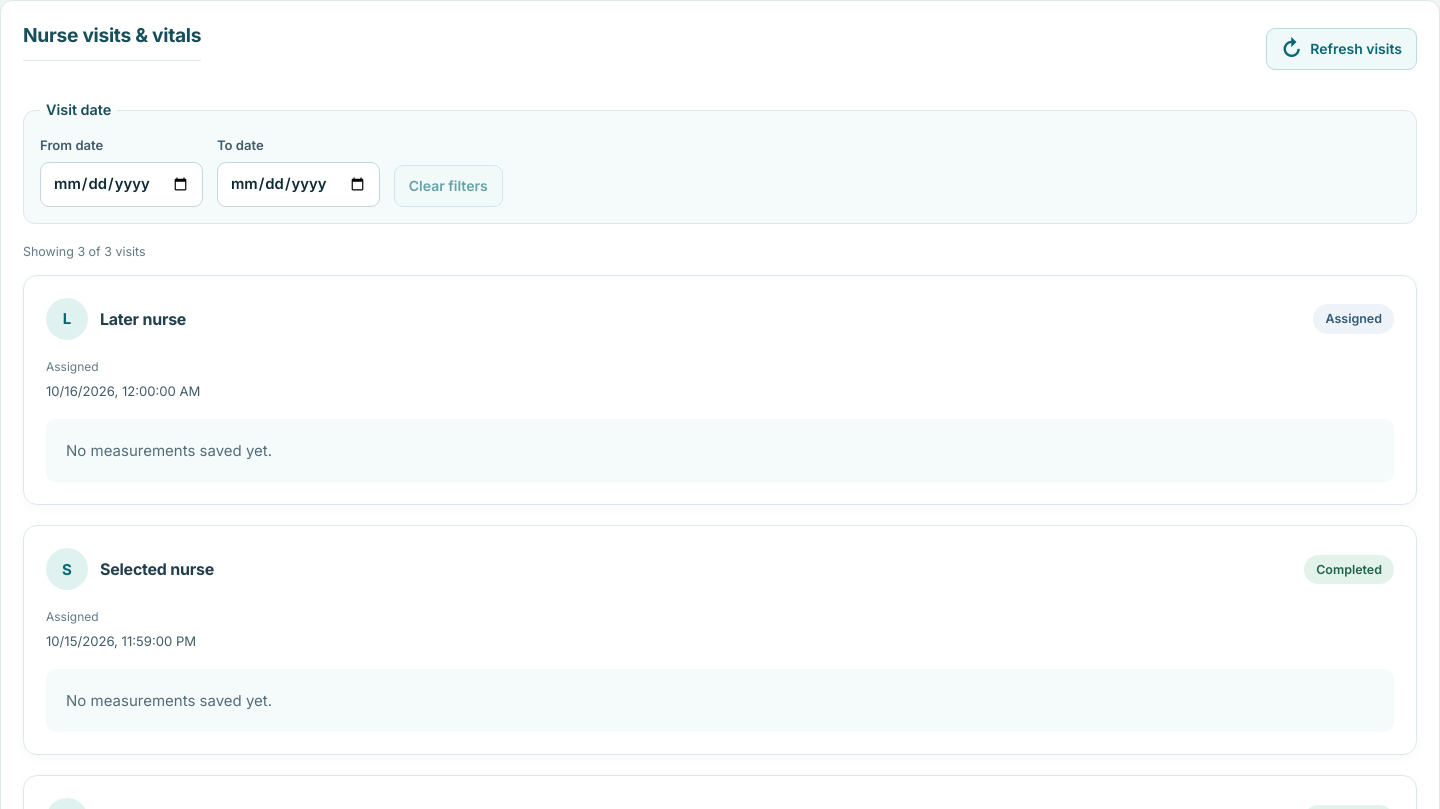
Test: filters inclusive local assignment dates, validates ranges and clears filters
Expected: the heading "Selected nurse" is shown, [100, 559, 214, 580]
Type "2026-10-15" into the date field labelled "From date" at (121, 184), box [40, 162, 203, 207]
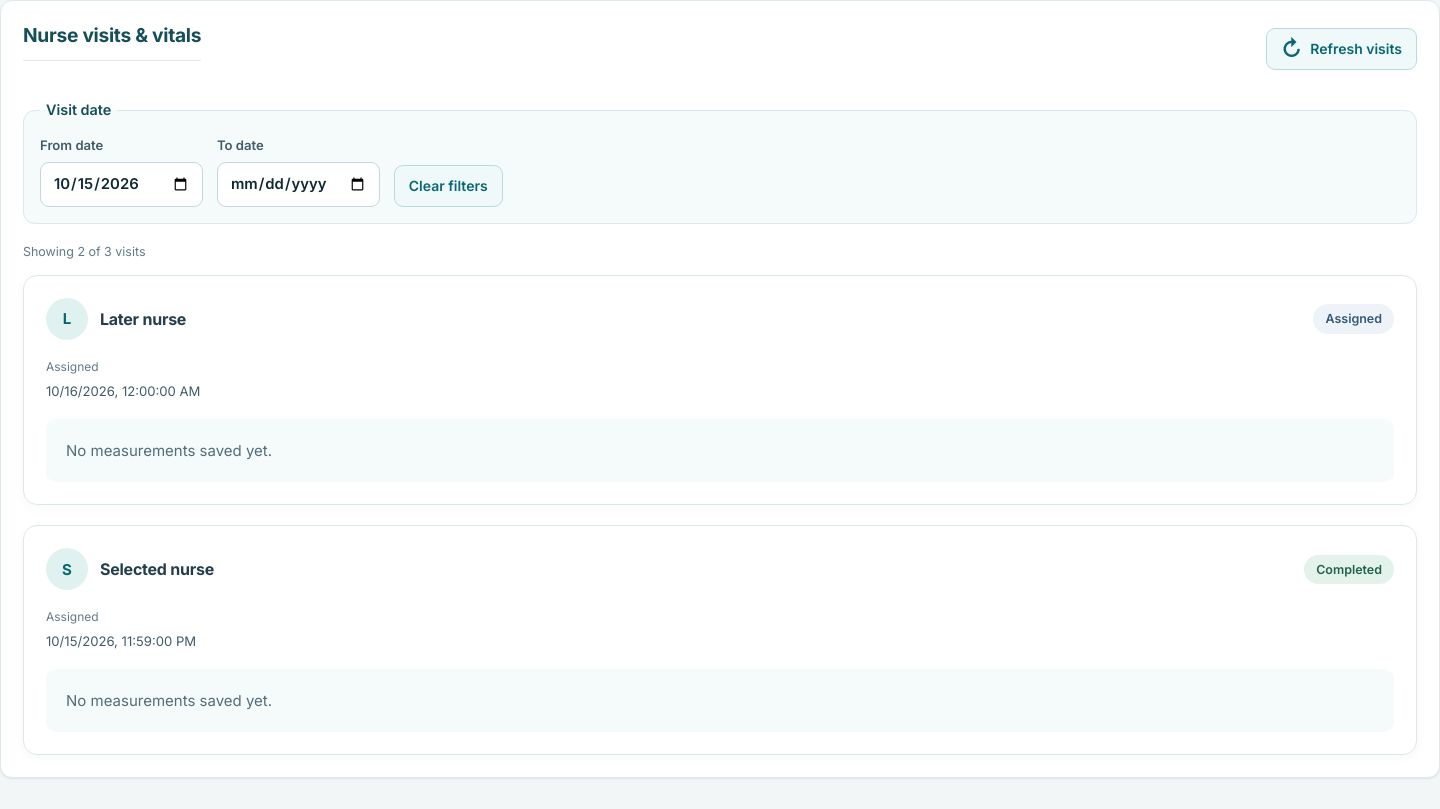
Expected: the heading "Earlier nurse" is not shown
Expected: the heading "Later nurse" is shown, [100, 309, 186, 329]
Type "2026-10-15" into the date field labelled "To date" at (298, 184), box [217, 162, 380, 207]
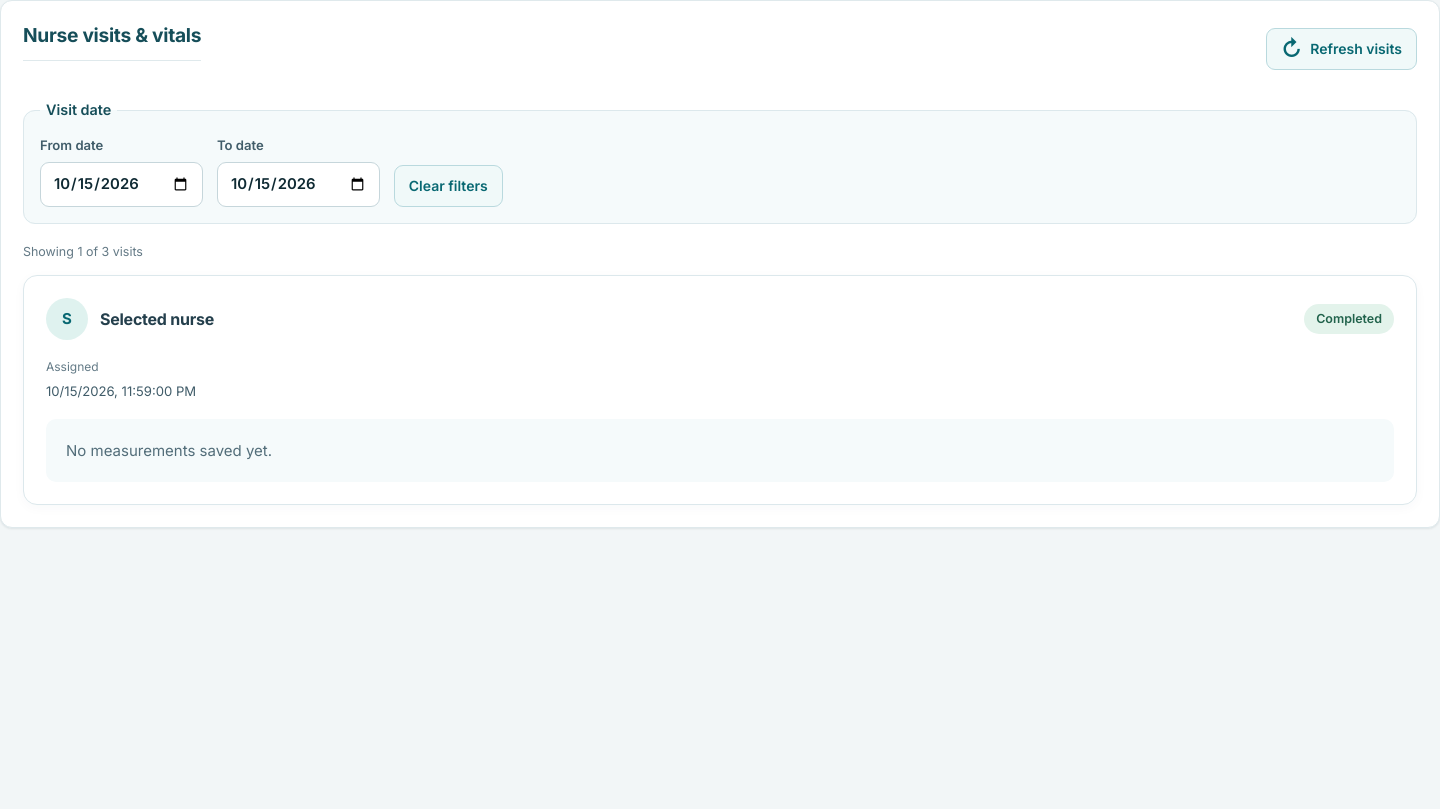
Expected: the heading "Selected nurse" is shown, [100, 309, 214, 329]
Now the heading "Later nurse" is gone
Type "2026-10-14" into the date field labelled "To date" at (298, 184), box [217, 162, 380, 207]
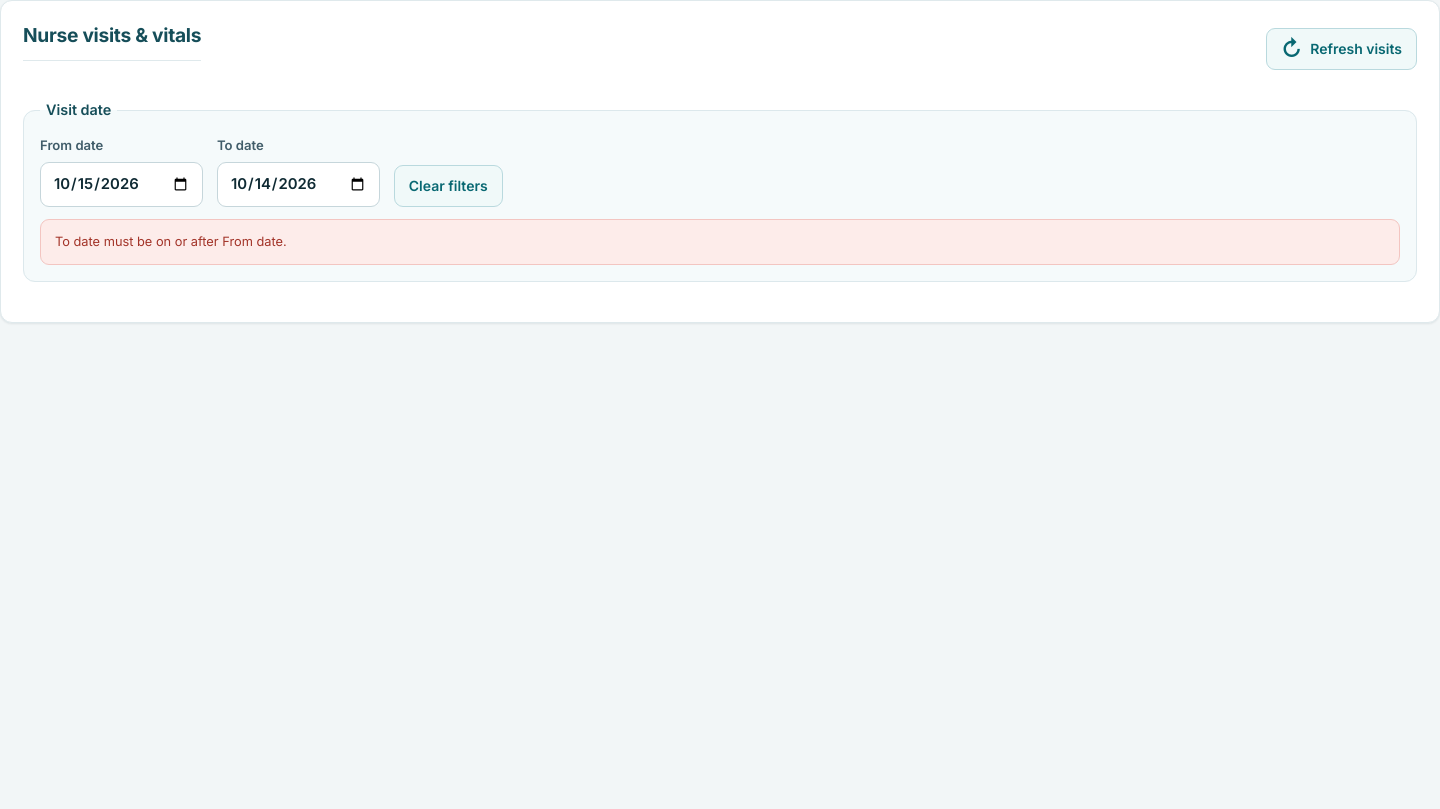
Now the message shows "To date must be", box [55, 234, 287, 249]
Click the button "Clear filters" at (448, 186), box [394, 165, 503, 207]
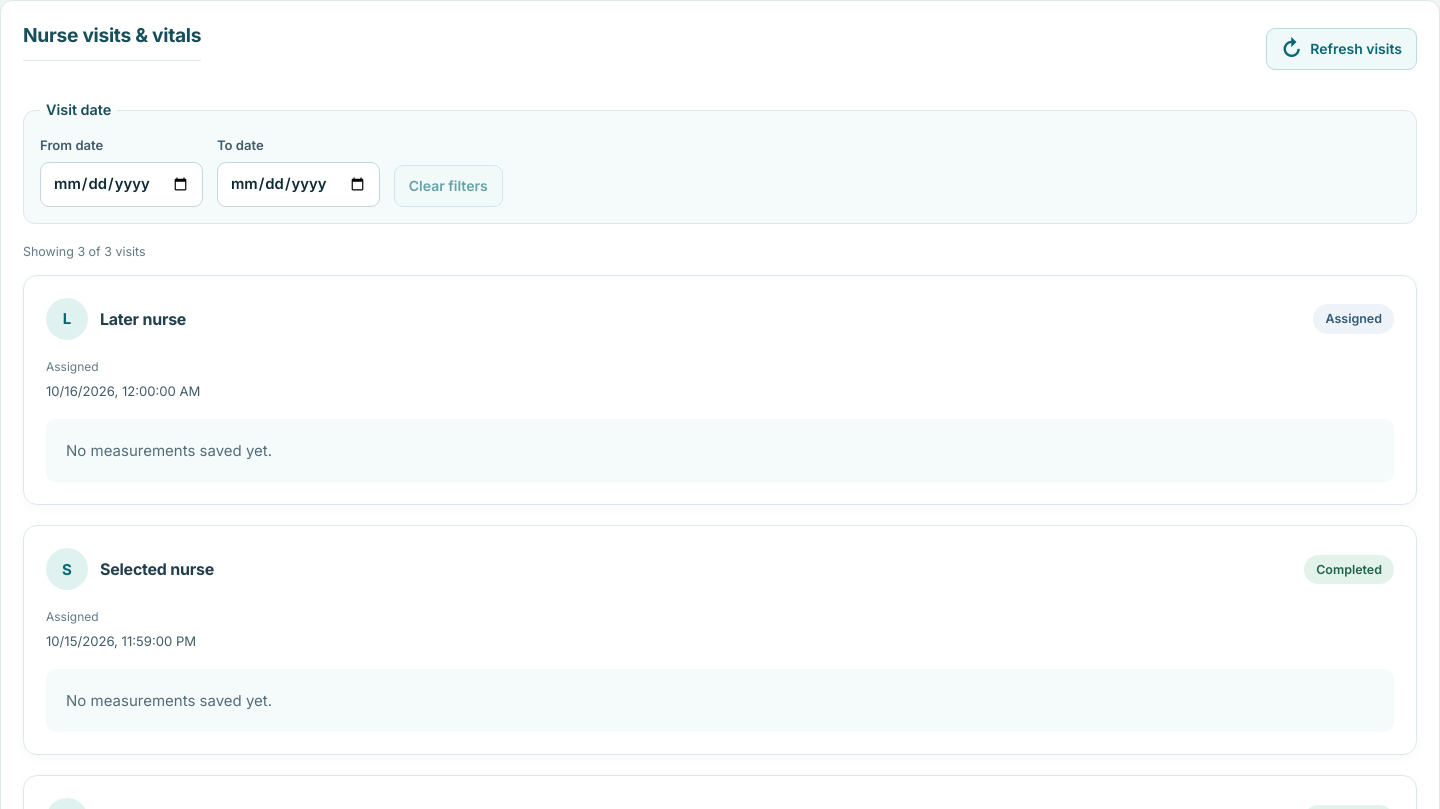
Type "2026-10-13" into the date field labelled "To date" at (298, 184), box [217, 162, 380, 207]
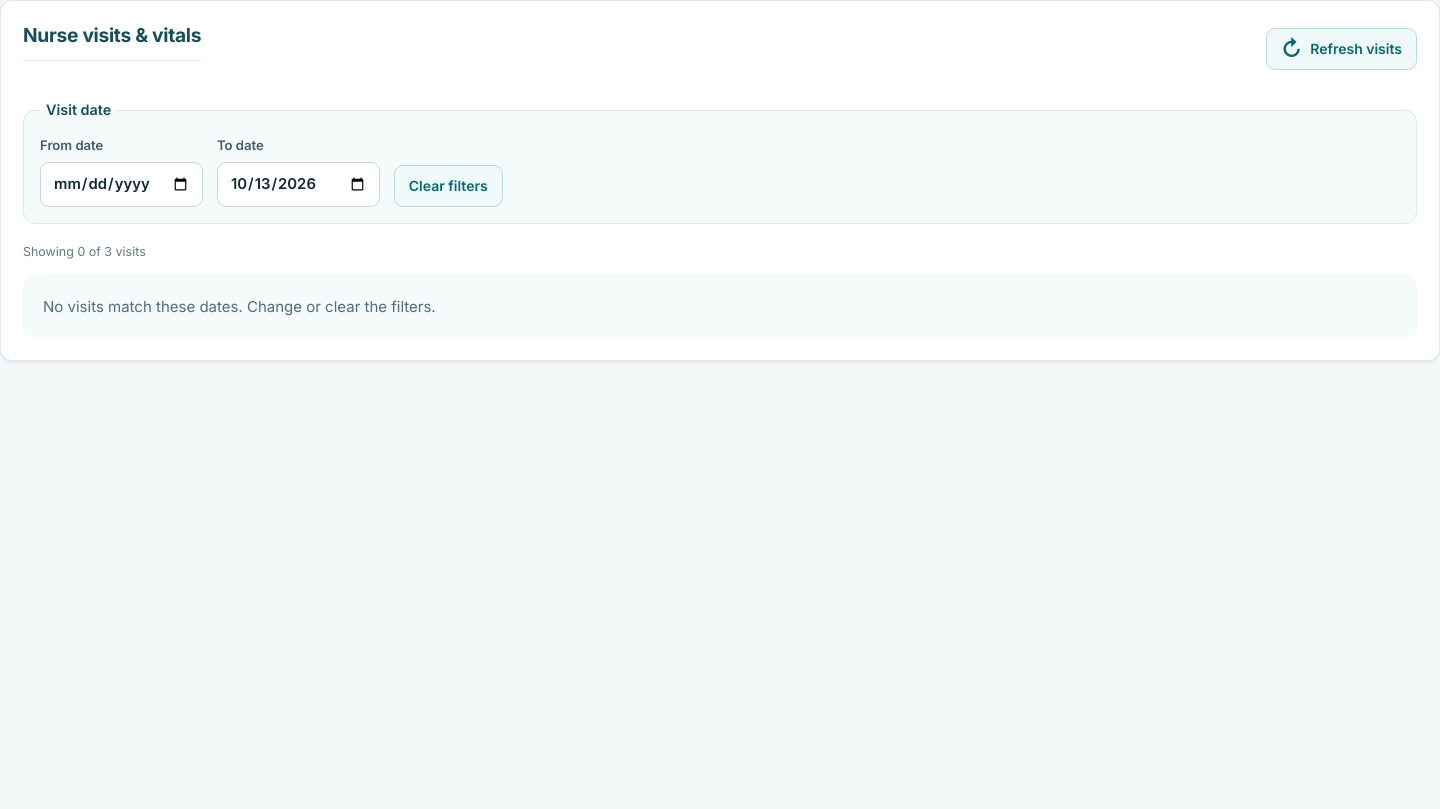
Now the text "No visits match these dates. Change or clear the filters." is shown, box [23, 275, 1417, 338]
